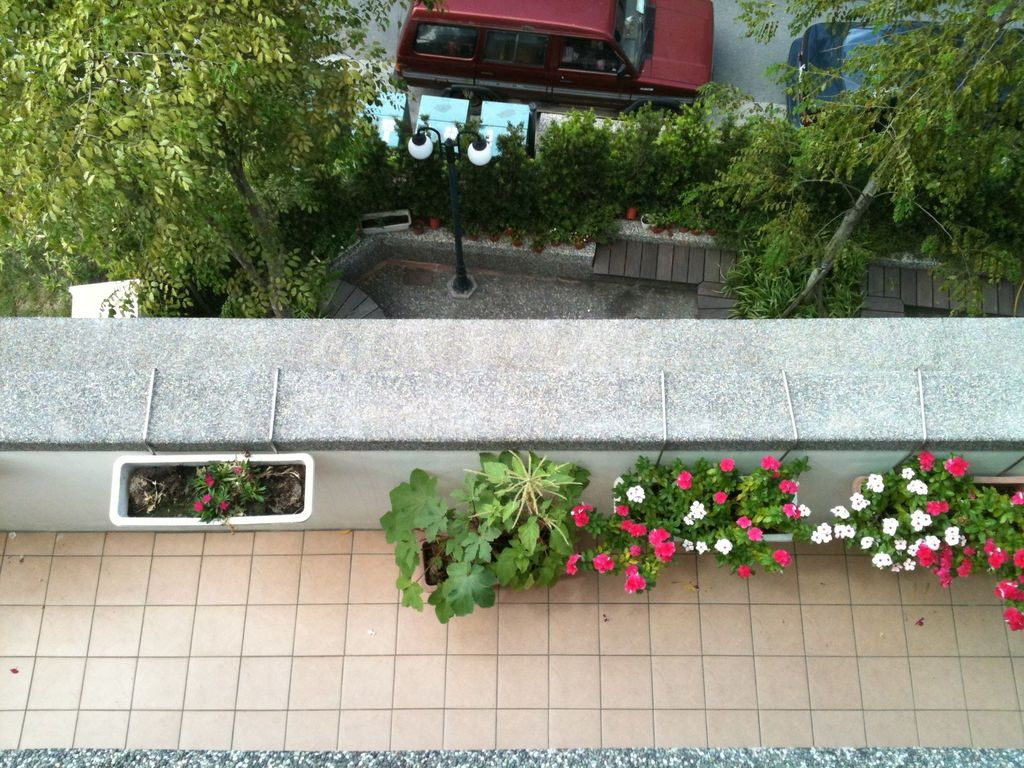cars: (386, 0, 714, 120), (783, 23, 1023, 144)
